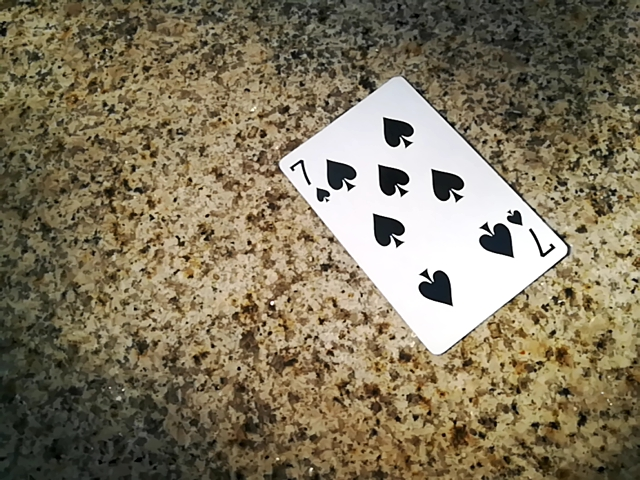ht 7: (274, 70, 560, 359)
